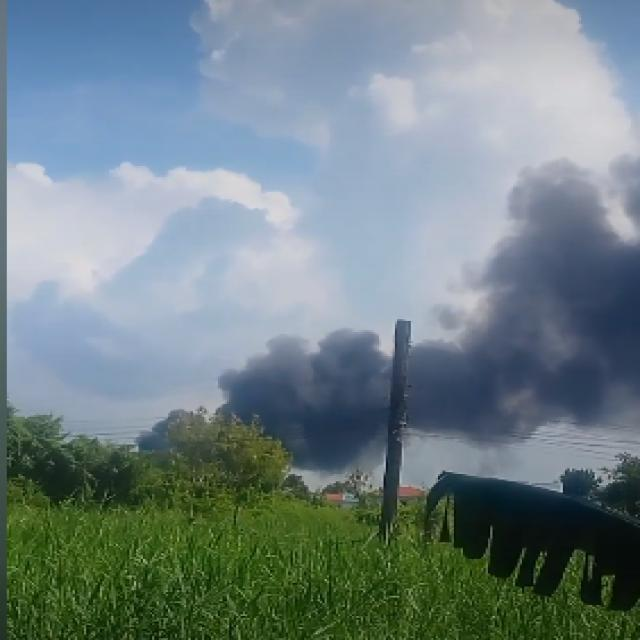Smoke: (142, 152, 640, 476)
